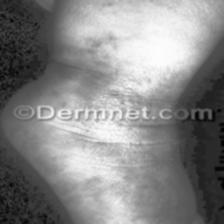Non-Cancerous Skin Condition: (9, 122, 194, 224), (29, 20, 203, 107)
